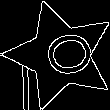O_W: (29, 27, 92, 83)
